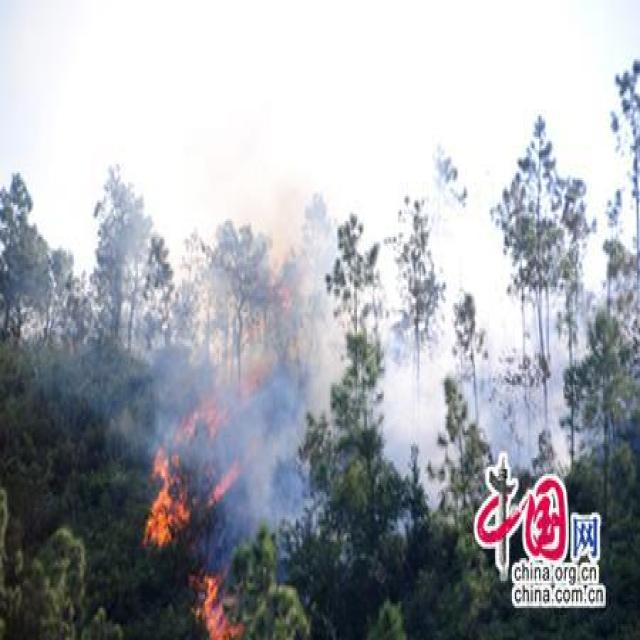fire: (123, 283, 317, 636)
